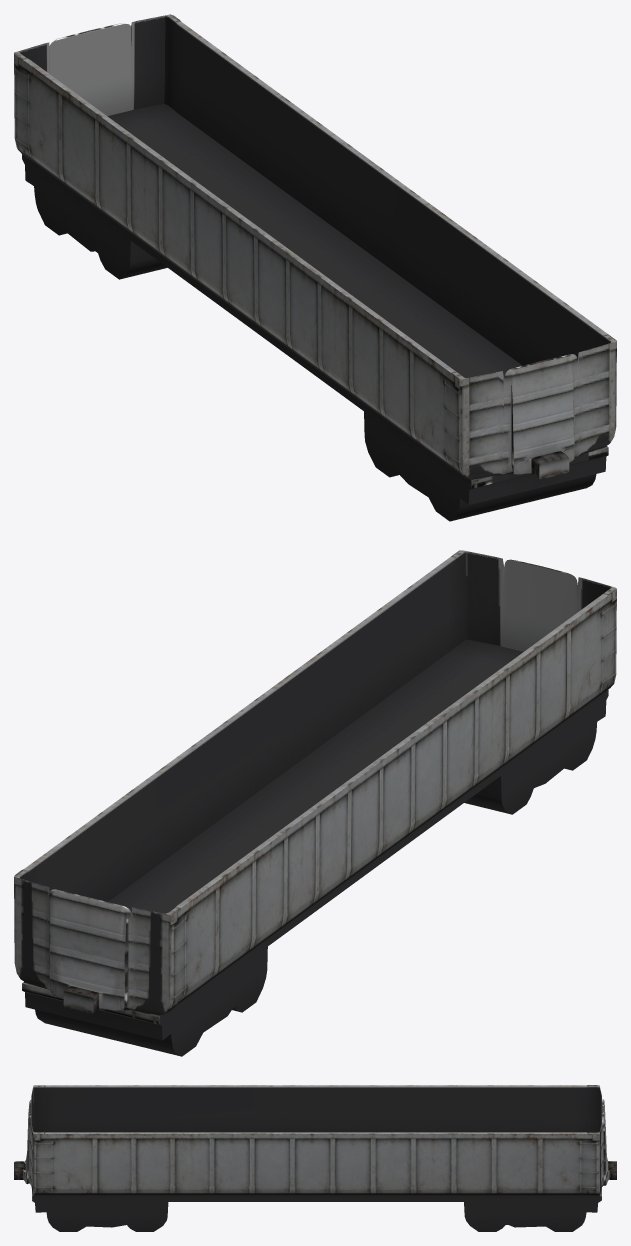
Rendered from tr_gondola.glb.
3 views of the same model, one above another, from view 1: azimuth 30°, elevation 25°; view 2: azimuth 150°, elevation 25°; view 3: azimuth 270°, elevation 25° (orthographic). The views are drawn at different scales.
Visible parts, largest first — view 1: body; view 2: body; view 3: body.
Part boxes in pixels (x1,y1,x2,y2): body: [14, 14, 616, 521]; body: [14, 550, 616, 1056]; body: [14, 1085, 616, 1231].
Size of the model in its own units: 3.02 by 2.91 by 15.63.
1 material, 1 textured.
